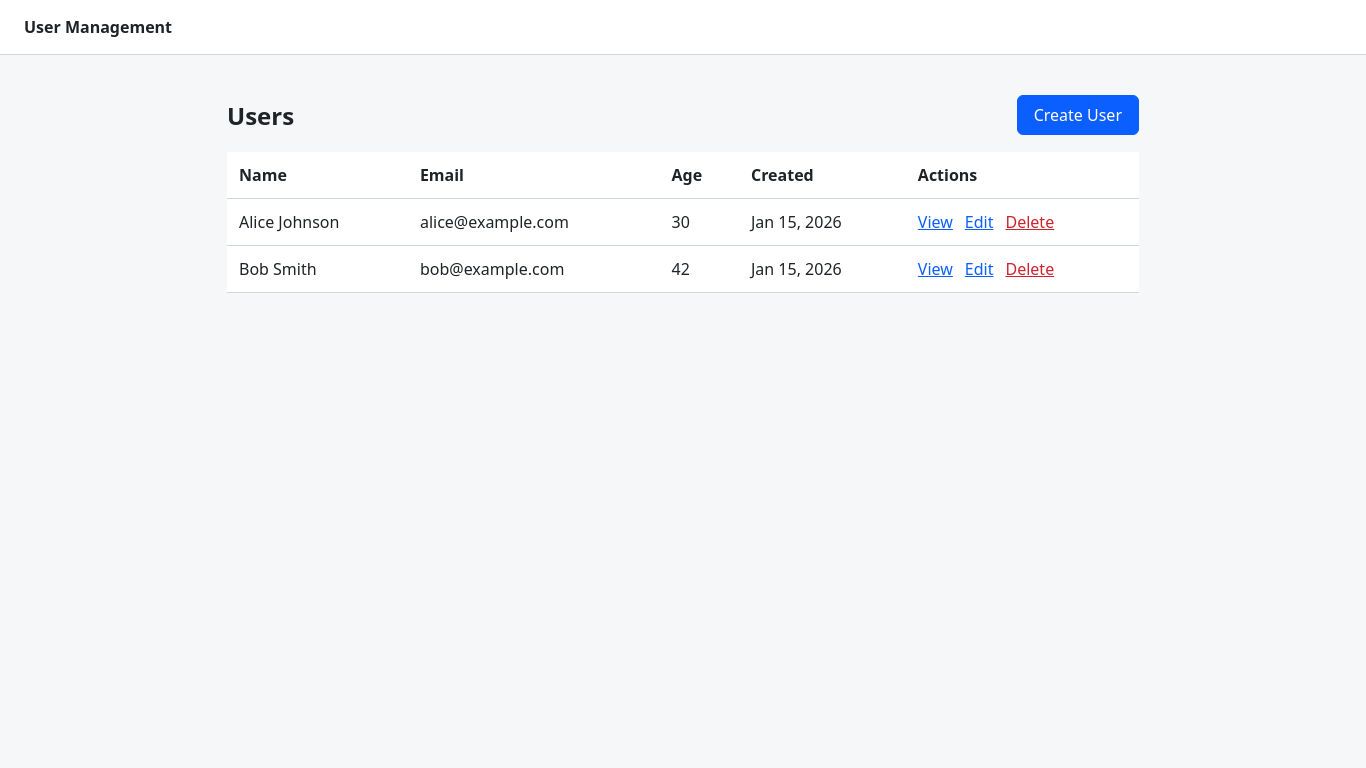
Test: Users list page › deleting a user › deletes the user and removes them from the list
Step 1. Click the button with aria-label "Delete Alice Johnson" → [1030, 222], box [1006, 211, 1054, 233]
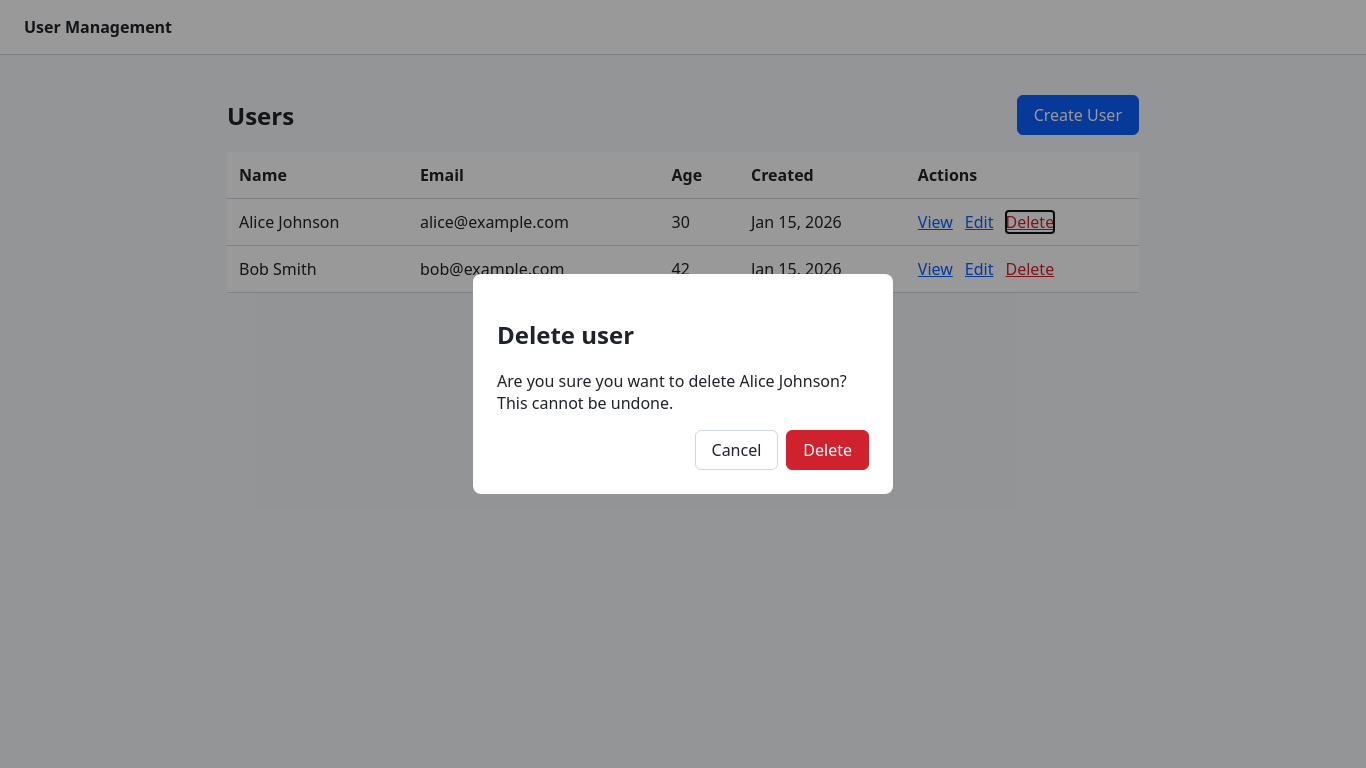
Step 2. Click the button "Delete" → [828, 450], box [786, 430, 869, 470]
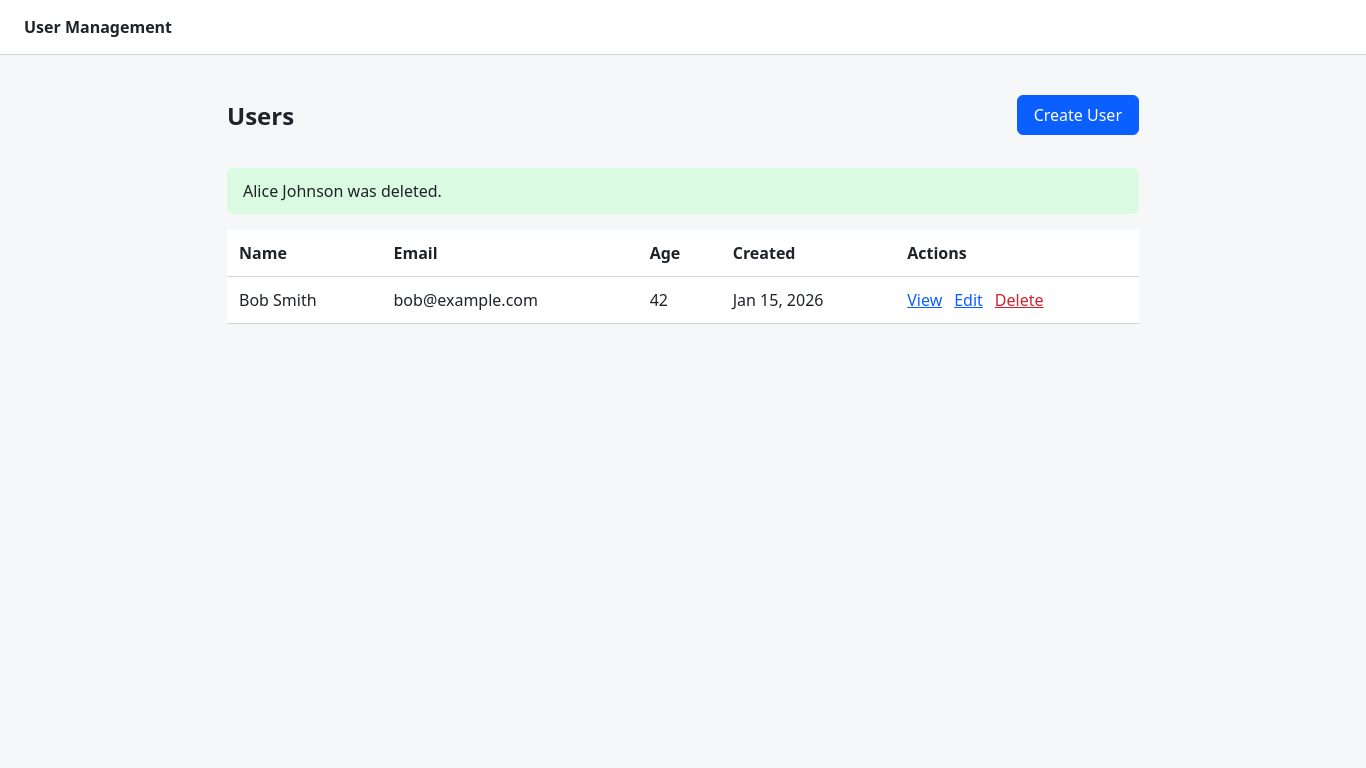
Check: the cell "Bob Smith" is shown, box [227, 276, 382, 324]
Check: the dialog is gone
Check: the text "Alice Johnson was deleted." is shown, box [227, 168, 1139, 214]
